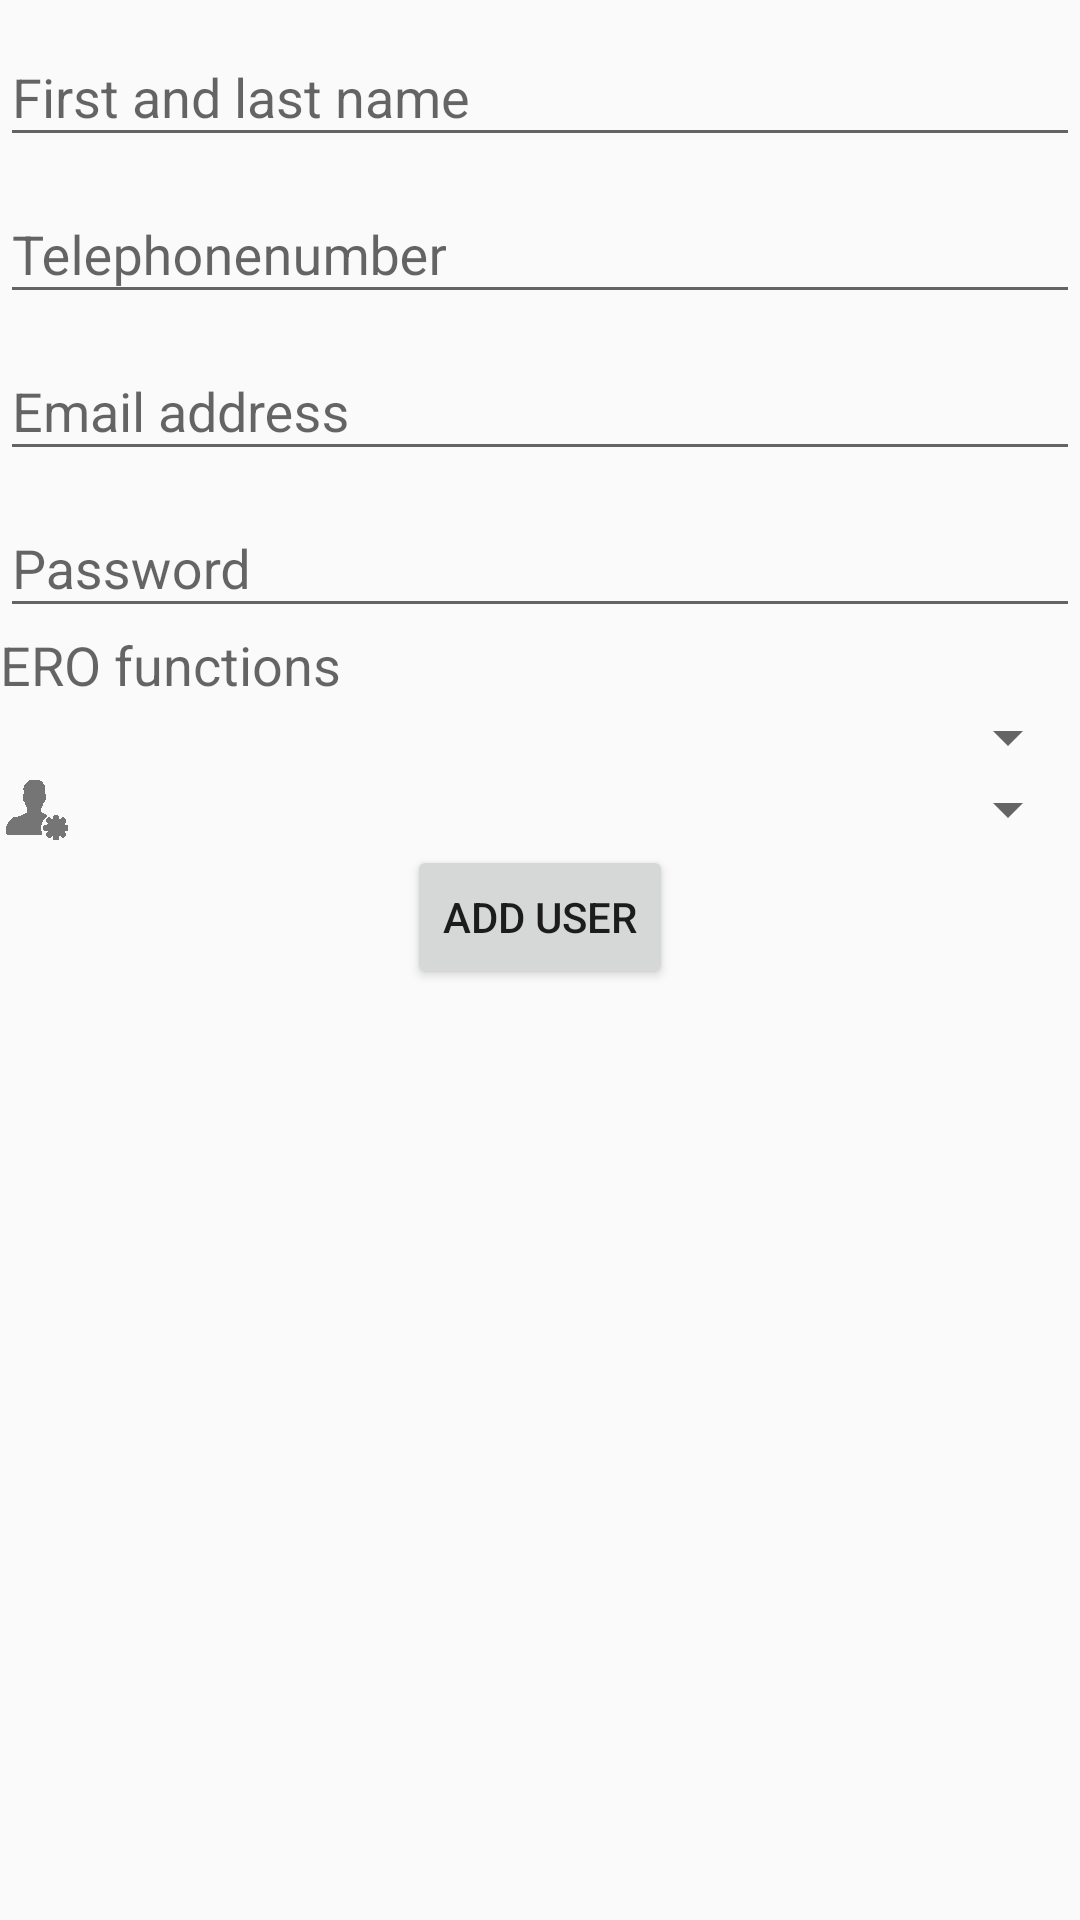

Locate icon controls on the screen. Image size 1080px x 1920px, boxes as (left=x1, top=y1, right=x2, bottom=y2).
admin: (left=6, top=780, right=68, bottom=840)
